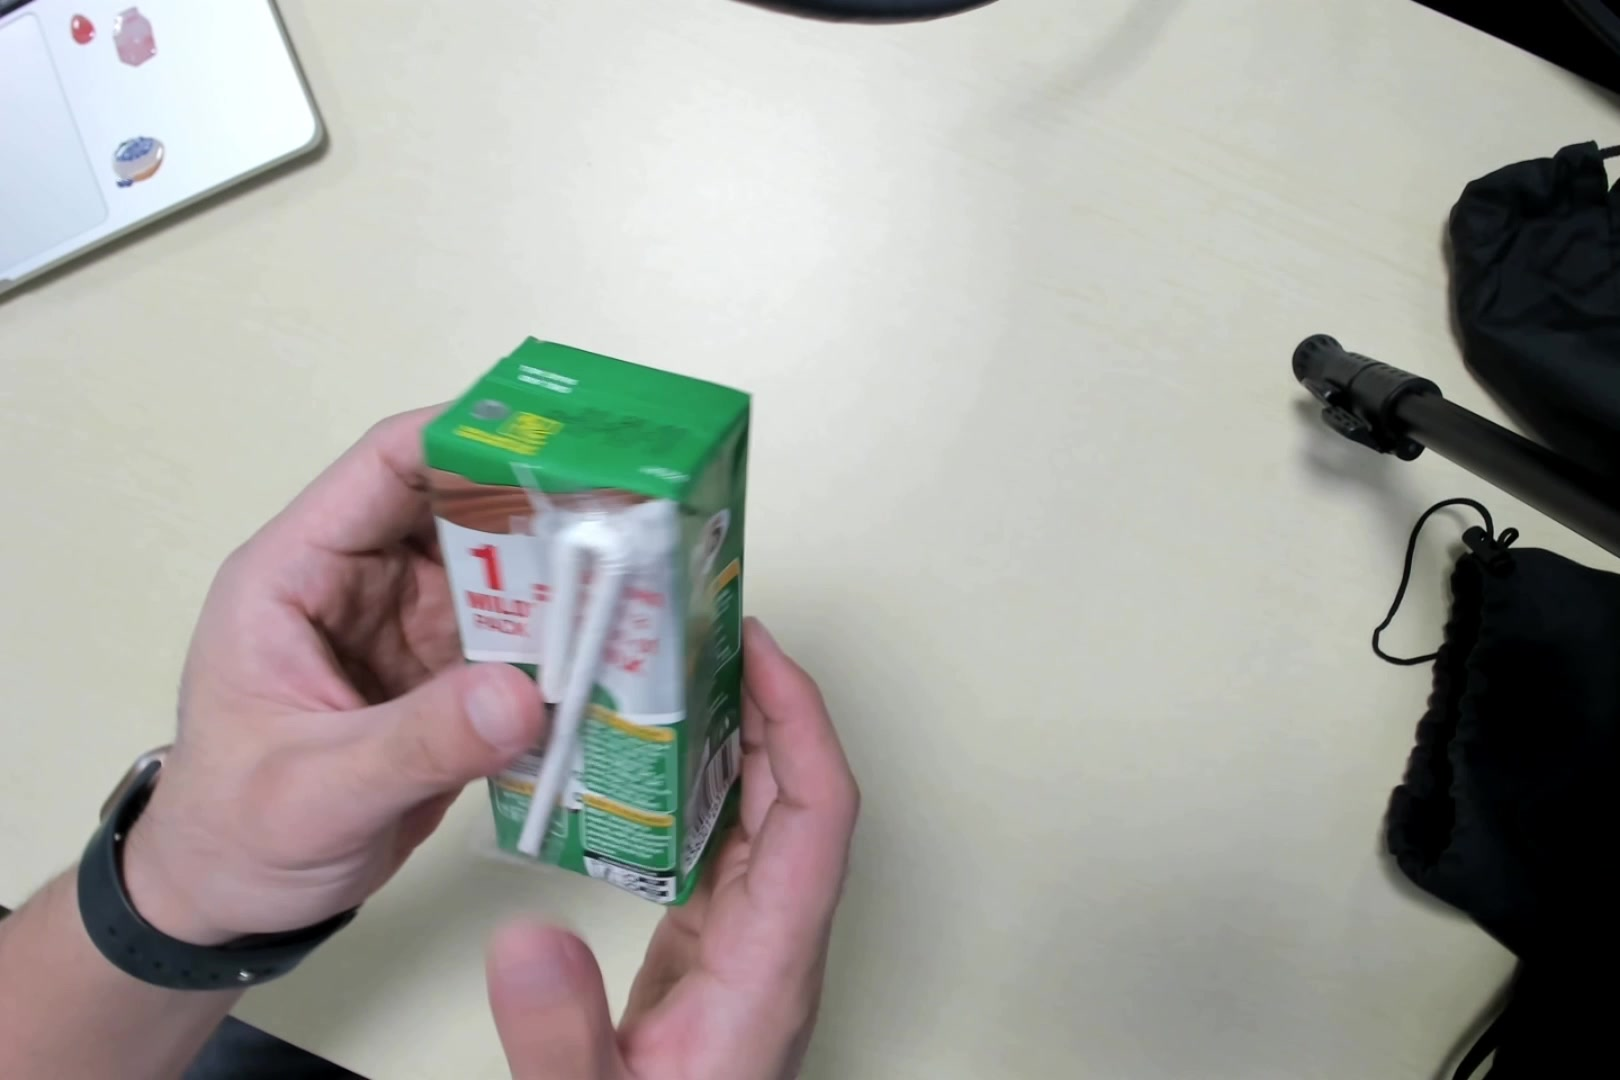SoftDrinksOtherReadyToDrink_100-199g_NonHalal_NonHealthy: (436, 330, 747, 900)
